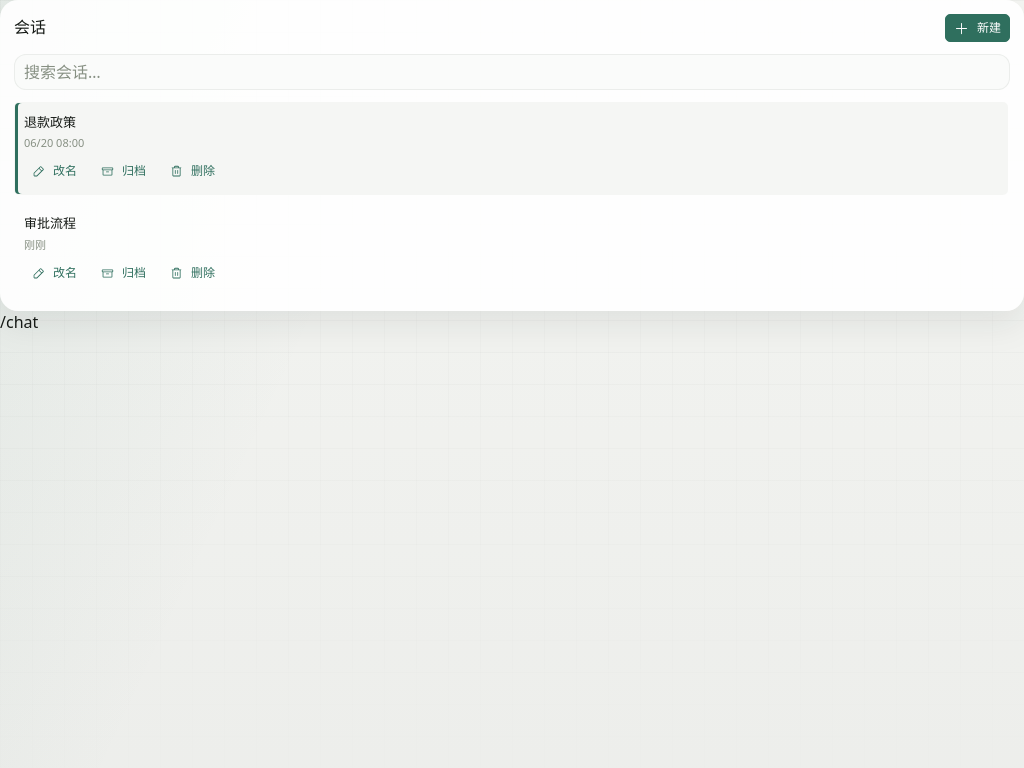
Scenario: SessionRail › keeps the dialog open and shows a local error when an action fails
Click the 1st button "改名" at (54, 171), box [24,157,85,185]
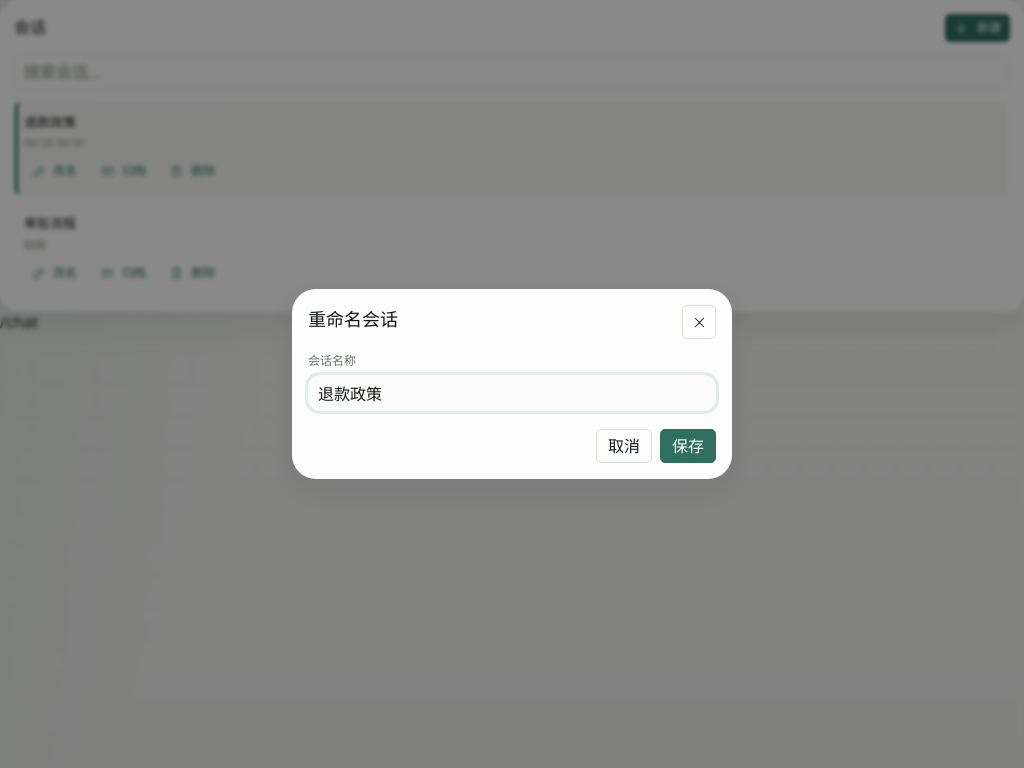
Replace the text in the field labelled "会话名称" with "新标题" at (512, 393), box [308,375,716,411]
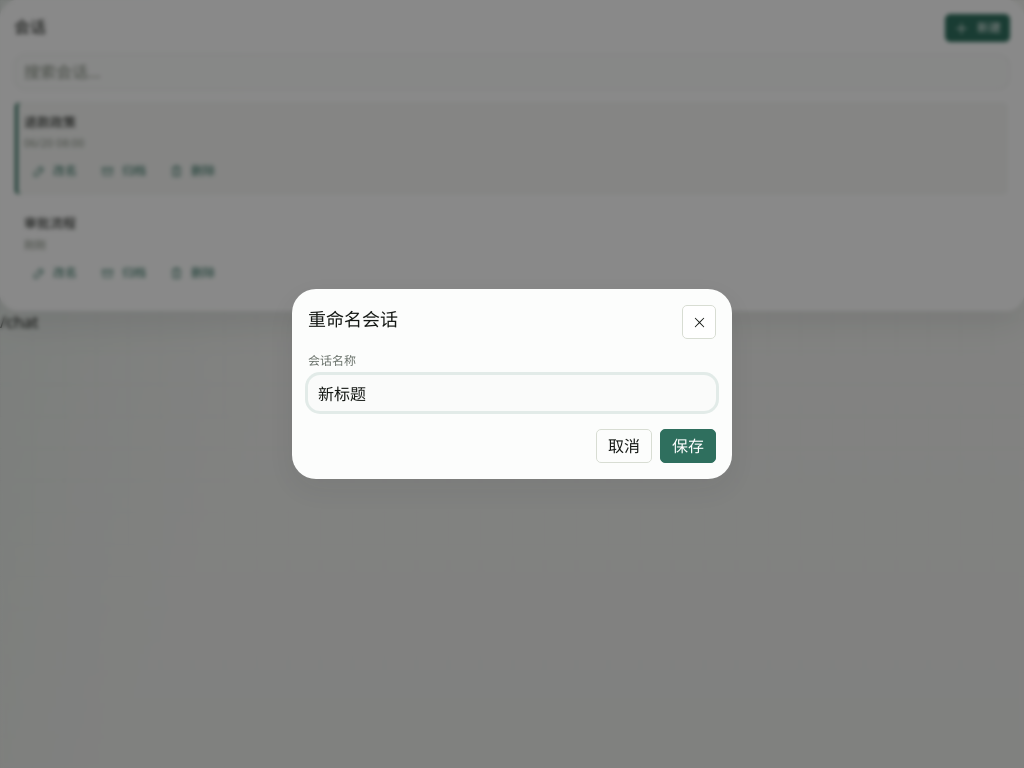
Click the button "保存" at (688, 446), box [660,429,716,463]
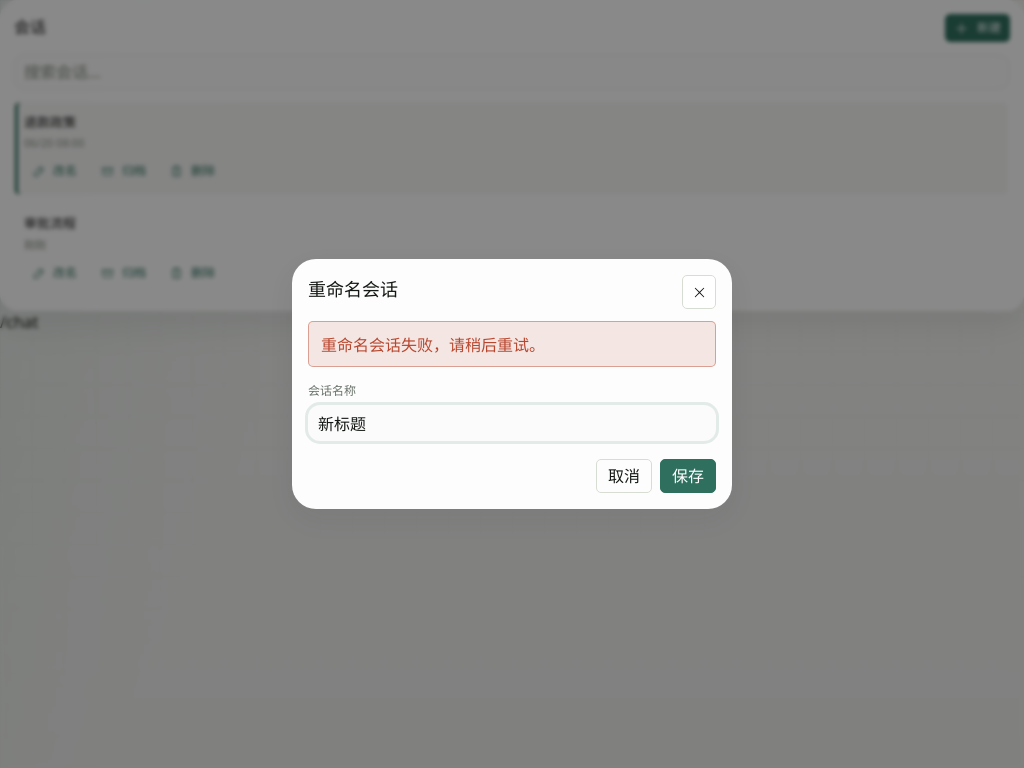
Expected: the dialog "重命名会话" is shown, [292,259,732,509]
Expected: the message reads "重命名会话失败，请稍后重试。", [321,334,545,356]
